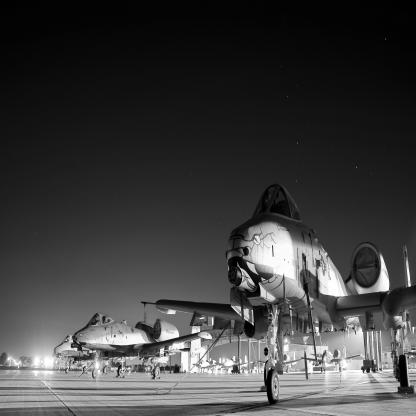A10: (142, 185, 416, 405), (72, 314, 213, 380), (54, 336, 153, 375), (302, 347, 364, 374), (258, 352, 306, 374), (215, 357, 254, 375), (194, 359, 225, 374)
